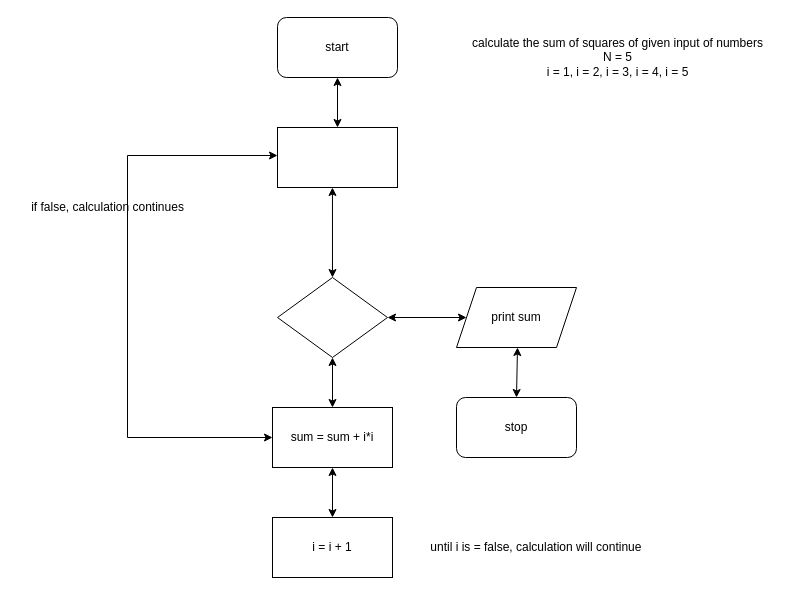
Image size: 794x595. Some labels were removed from this diagram. Each missing label, with the centre of its shape:
"i = >5" belongs at point 332,317.
"sum = 0 i = 1" belongs at point 337,157.
